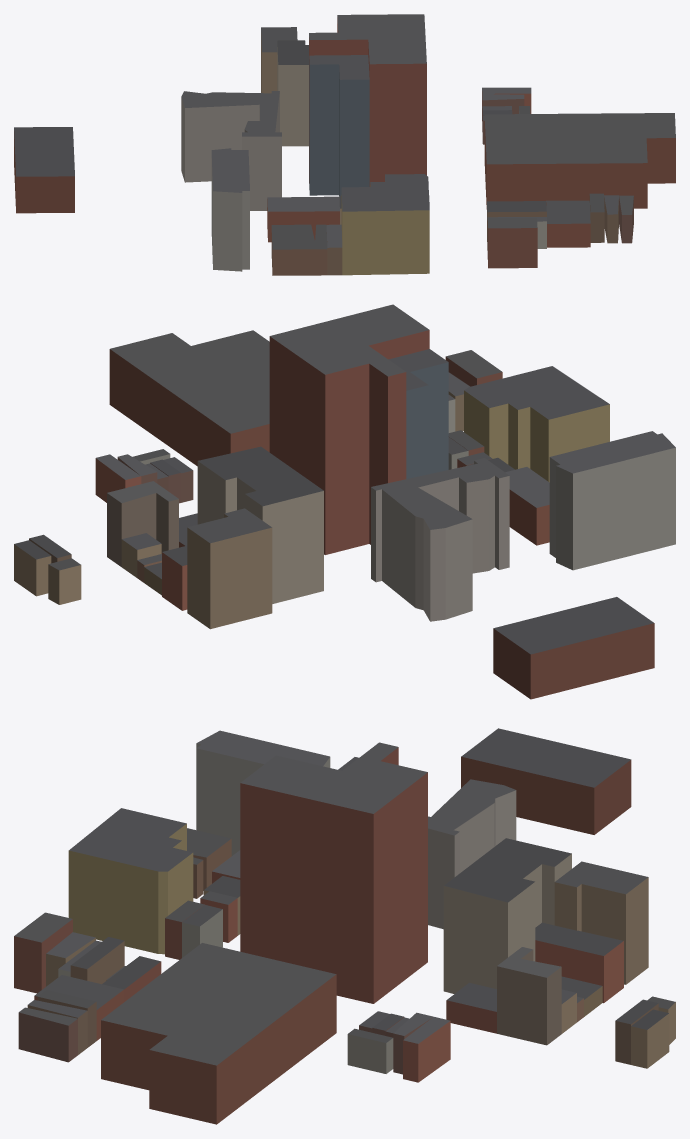
File: -2_4.far.glb
3 views of the same model, one above another, from view 1: azimuth 30°, elevation 25°; view 2: azimuth 150°, elevation 25°; view 3: azimuth 270°, elevation 25° (orthographic). The views are drawn at different scales.
Visible parts, largest first — view 1: -2_4_far; view 2: -2_4_far; view 3: -2_4_far.
Boxes of the visible parts, left/top/right/bottom form: -2_4_far: left=14, top=14, right=675, bottom=275; -2_4_far: left=14, top=304, right=675, bottom=699; -2_4_far: left=14, top=728, right=675, bottom=1124.
Size of the model in its own units: 330 by 83.81 by 265.
